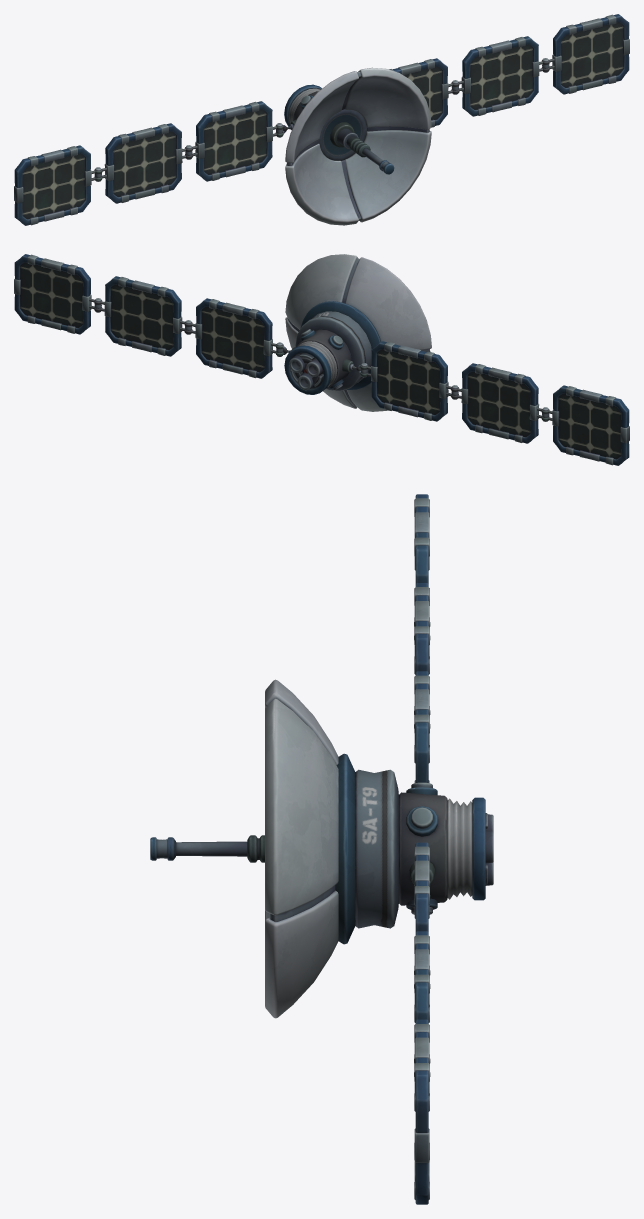
The model's file is Satellite_SAT7.fbx.
The picture shows the model from 3 angles, top to bottom: view 1: azimuth 30°, elevation 25°; view 2: azimuth 150°, elevation 25°; view 3: azimuth 270°, elevation 25°; orthographic projection. The views are drawn at different scales.
Parts seen in each view (by area): view 1: Satellite_SAT7, Satellite_SAT7_SolarArray_L_002, Satellite_SAT7_SolarArray_R_001, Satellite_SAT7_SolarArray_R_002, Satellite_SAT7_SolarArray_R_003, Satellite_SAT7_SolarArray_L_003, Satellite_SAT7_SolarArray_L_001; view 2: Satellite_SAT7, Satellite_SAT7_SolarArray_L_002, Satellite_SAT7_SolarArray_L_001, Satellite_SAT7_SolarArray_R_001, Satellite_SAT7_SolarArray_R_002, Satellite_SAT7_SolarArray_R_003, Satellite_SAT7_SolarArray_L_003; view 3: Satellite_SAT7, Satellite_SAT7_SolarArray_L_003, Satellite_SAT7_SolarArray_R_001, Satellite_SAT7_SolarArray_R_002, Satellite_SAT7_SolarArray_R_003, Satellite_SAT7_SolarArray_L_001, Satellite_SAT7_SolarArray_L_002.
Boxes of the visible parts, x1,y1,x2,y2 form: Satellite_SAT7: [284, 67, 431, 225]; Satellite_SAT7_SolarArray_L_002: [451, 36, 542, 116]; Satellite_SAT7_SolarArray_R_001: [192, 101, 283, 181]; Satellite_SAT7_SolarArray_R_002: [102, 123, 192, 203]; Satellite_SAT7_SolarArray_R_003: [14, 145, 102, 225]; Satellite_SAT7_SolarArray_L_003: [542, 14, 629, 94]; Satellite_SAT7_SolarArray_L_001: [389, 58, 452, 127]; Satellite_SAT7: [284, 254, 431, 411]; Satellite_SAT7_SolarArray_L_002: [101, 276, 192, 356]; Satellite_SAT7_SolarArray_L_001: [191, 298, 283, 378]; Satellite_SAT7_SolarArray_R_001: [360, 341, 451, 421]; Satellite_SAT7_SolarArray_R_002: [451, 363, 541, 443]; Satellite_SAT7_SolarArray_R_003: [541, 385, 629, 465]; Satellite_SAT7_SolarArray_L_003: [14, 254, 101, 334]; Satellite_SAT7: [150, 679, 493, 1018]; Satellite_SAT7_SolarArray_L_003: [414, 1019, 430, 1204]; Satellite_SAT7_SolarArray_R_001: [414, 671, 429, 783]; Satellite_SAT7_SolarArray_R_002: [414, 583, 430, 763]; Satellite_SAT7_SolarArray_R_003: [414, 494, 430, 674]; Satellite_SAT7_SolarArray_L_001: [414, 842, 430, 1022]; Satellite_SAT7_SolarArray_L_002: [414, 931, 430, 1111].
Size of the model in its own units: 26.34 by 6.28 by 6.39.
